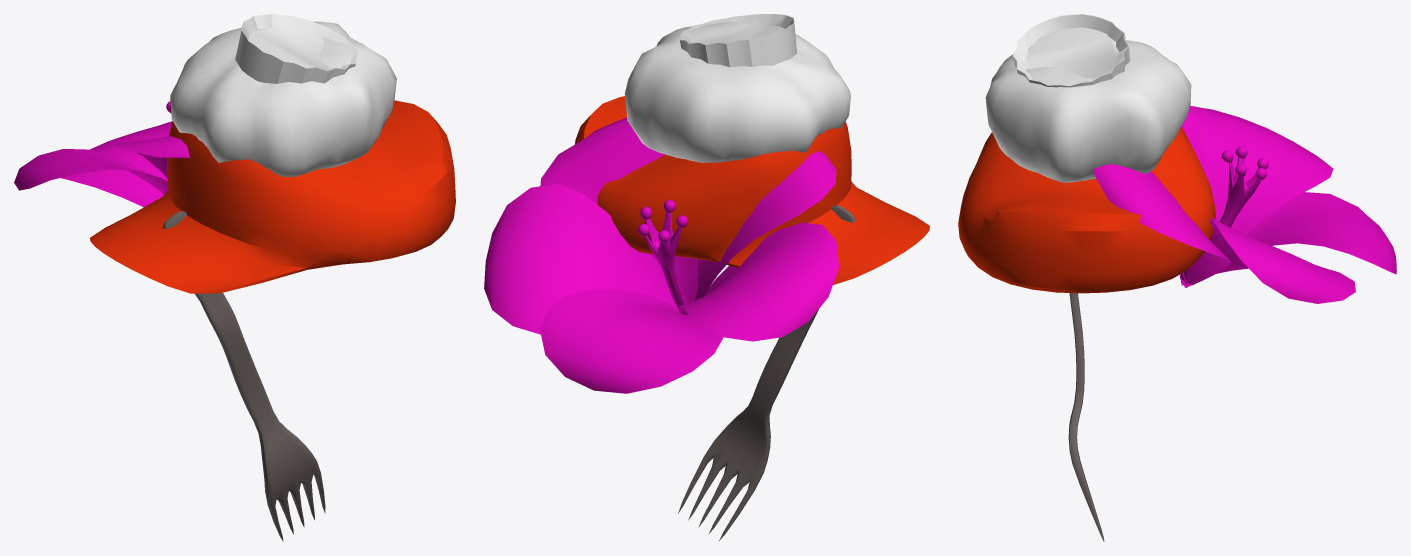
The model's file is Hats.fbx.
3 renders of one model, left to right at view 1: azimuth 30°, elevation 25°; view 2: azimuth 150°, elevation 25°; view 3: azimuth 270°, elevation 25°, orthographic. The views are drawn at different scales.
Parts seen in each view (by area): view 1: Chapeu Mario, Chapeu Gordo, Garfo, Rosa, Chapeu Alto; view 2: Rosa, Chapeu Mario, Chapeu Gordo, Garfo, Chapeu Alto; view 3: Rosa, Chapeu Mario, Chapeu Gordo, Chapeu Alto, Garfo.
Part boxes in pixels (<box>): Chapeu Mario: <box>90,100,455,293</box>; Chapeu Gordo: <box>170,21,396,176</box>; Garfo: <box>162,211,325,541</box>; Rosa: <box>14,101,189,207</box>; Chapeu Alto: <box>235,14,357,83</box>; Rosa: <box>484,117,839,393</box>; Chapeu Mario: <box>575,96,929,284</box>; Chapeu Gordo: <box>624,22,850,162</box>; Garfo: <box>678,205,855,540</box>; Chapeu Alto: <box>679,14,796,67</box>; Rosa: <box>1094,105,1396,303</box>; Chapeu Mario: <box>958,127,1215,293</box>; Chapeu Gordo: <box>985,40,1191,182</box>; Chapeu Alto: <box>1013,14,1129,87</box>; Garfo: <box>1068,293,1104,541</box>.
Size of the model in its own units: 165 by 245 by 194.
